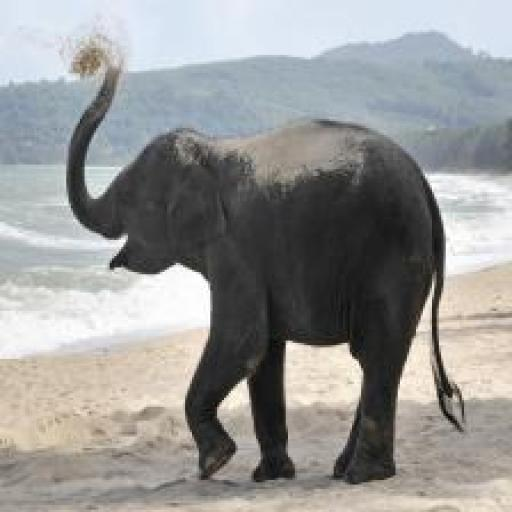Elephant: (59, 59, 480, 494)
